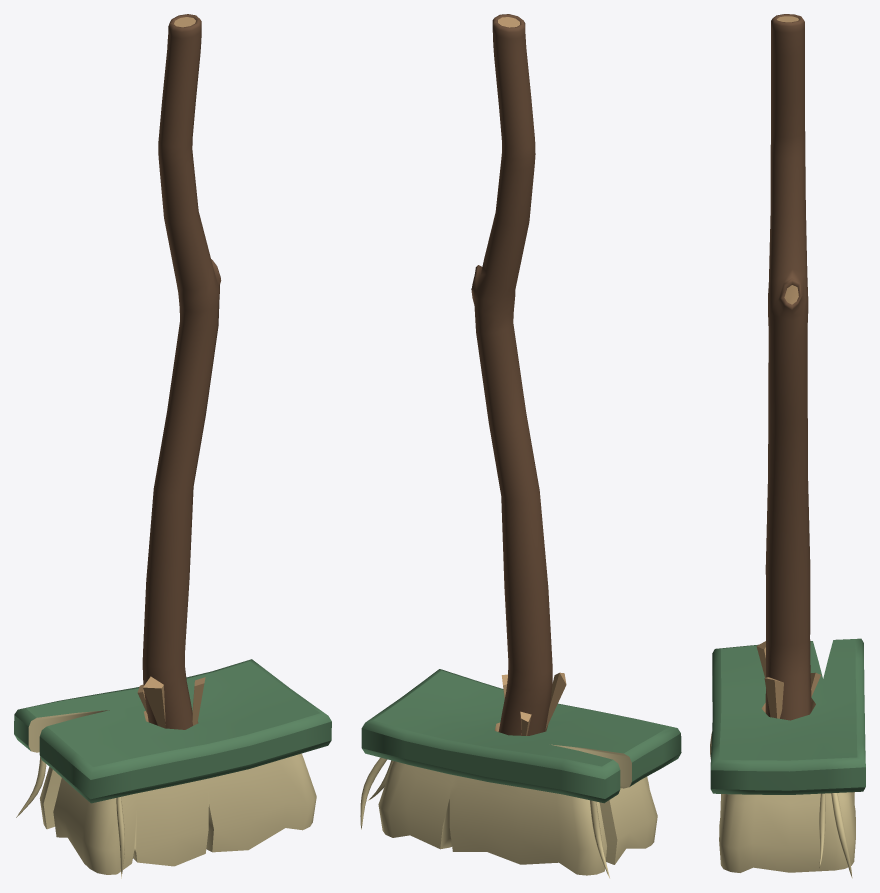
The model's file is broom.fbx.
The picture shows the model from 3 angles, left to right: view 1: azimuth 30°, elevation 25°; view 2: azimuth 150°, elevation 25°; view 3: azimuth 270°, elevation 25°; orthographic projection.
Parts seen in each view (by area): view 1: Circle.003, Cube.060, Cube.064, Cube.062; view 2: Circle.003, Cube.060, Cube.064; view 3: Circle.003, Cube.060, Cube.064, Cube.061, NurbsPath.005, NurbsPath.004.
Part boxes in pixels (left/top/right/bottom): Circle.003: left=142, top=14, right=221, bottom=729; Cube.060: left=14, top=659, right=331, bottom=803; Cube.064: left=39, top=753, right=316, bottom=874; Cube.062: left=143, top=676, right=165, bottom=728; Circle.003: left=471, top=14, right=552, bottom=735; Cube.060: left=361, top=669, right=681, bottom=803; Cube.064: left=378, top=761, right=657, bottom=875; Circle.003: left=765, top=14, right=811, bottom=720; Cube.060: left=710, top=638, right=865, bottom=794; Cube.064: left=719, top=792, right=855, bottom=872; Cube.061: left=764, top=677, right=783, bottom=718; NurbsPath.005: left=831, top=793, right=852, bottom=878; NurbsPath.004: left=819, top=793, right=825, bottom=868.
Size of the model in its own units: 48.92 by 147 by 25.49.
Materials: 1 (1 with a texture image).
